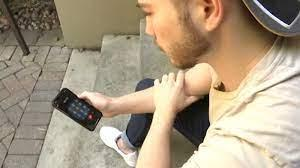Calculator: (68, 97, 101, 128)
